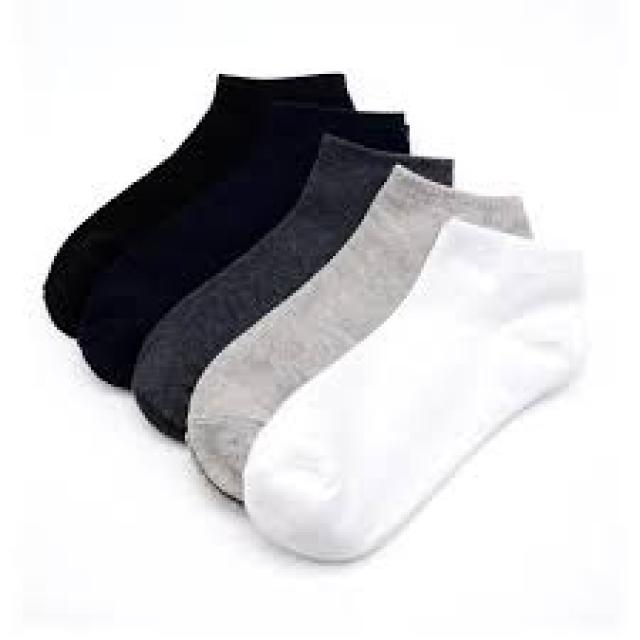sock: (242, 214, 586, 564)
